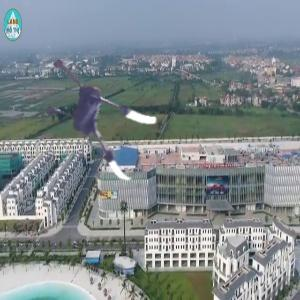drone: (31, 44, 174, 187)
